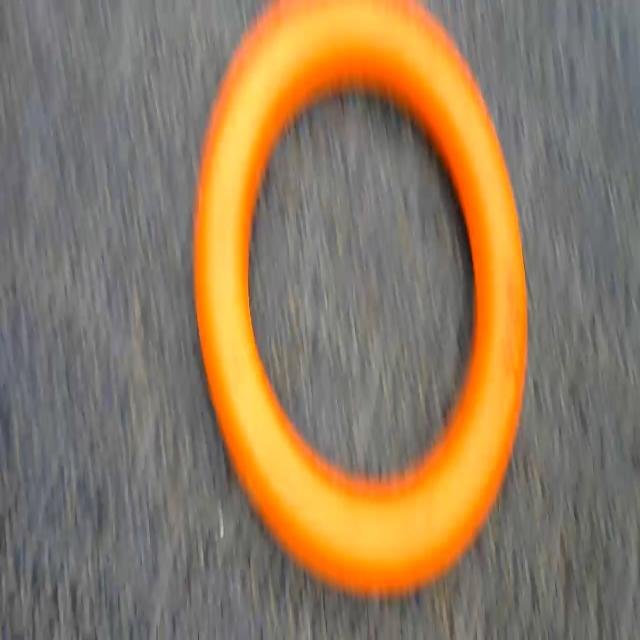note: (190, 0, 548, 602)
